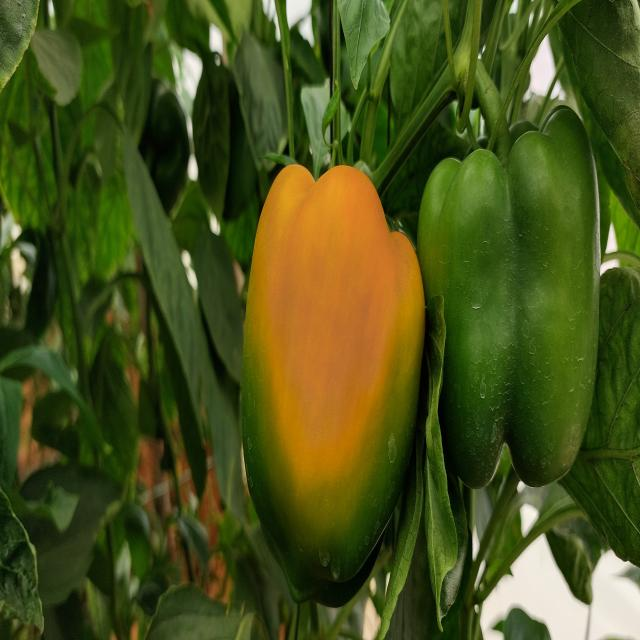Green--Not-ready-to-harvest: (417, 118, 612, 516)
GreenishYellow--Can-be-Harvested: (218, 121, 433, 594)
